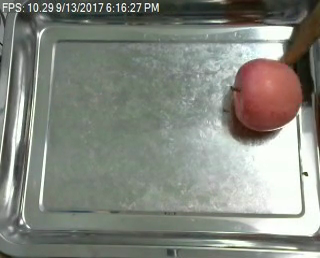Apple: (232, 57, 302, 132)
